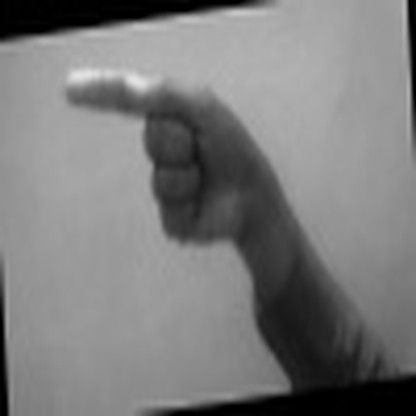g: (60, 59, 263, 248)
